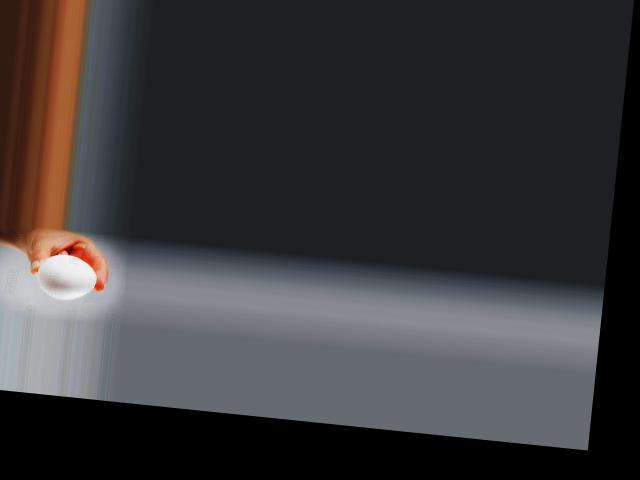egg: (35, 253, 99, 301)
